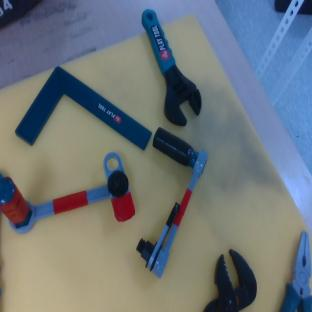non_pass: (107, 126, 212, 278)
pass: (0, 150, 135, 242)
